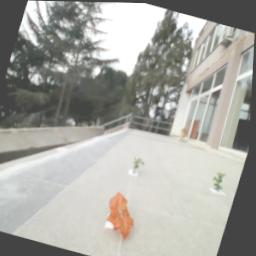herb: (211, 169, 232, 194), (131, 156, 147, 177)
wild: (103, 190, 146, 243)
